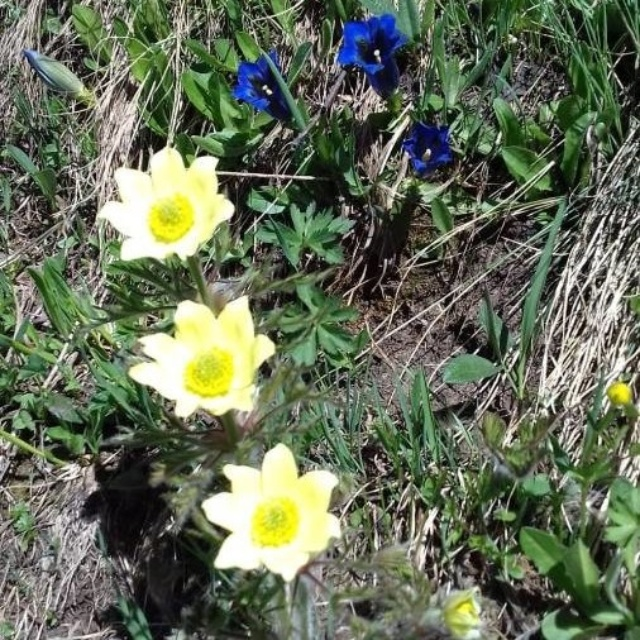obstacle: (101, 116, 402, 624)
